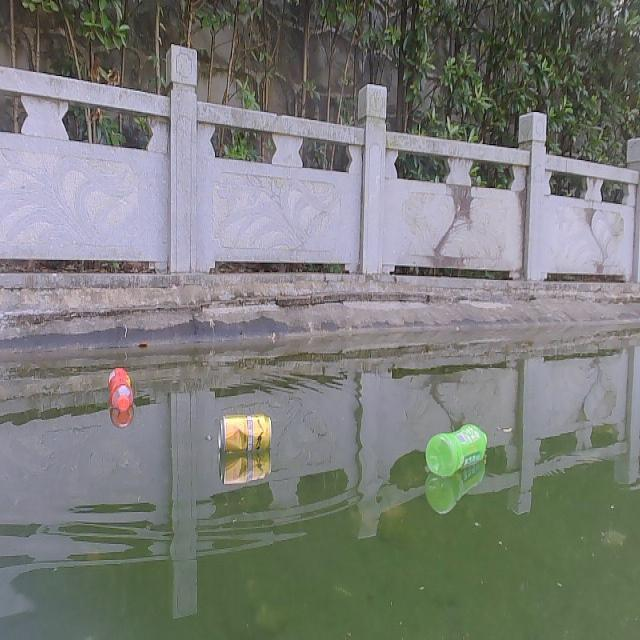Bottle: (426, 421, 486, 476), (106, 364, 131, 415)
Can: (214, 409, 275, 455)
